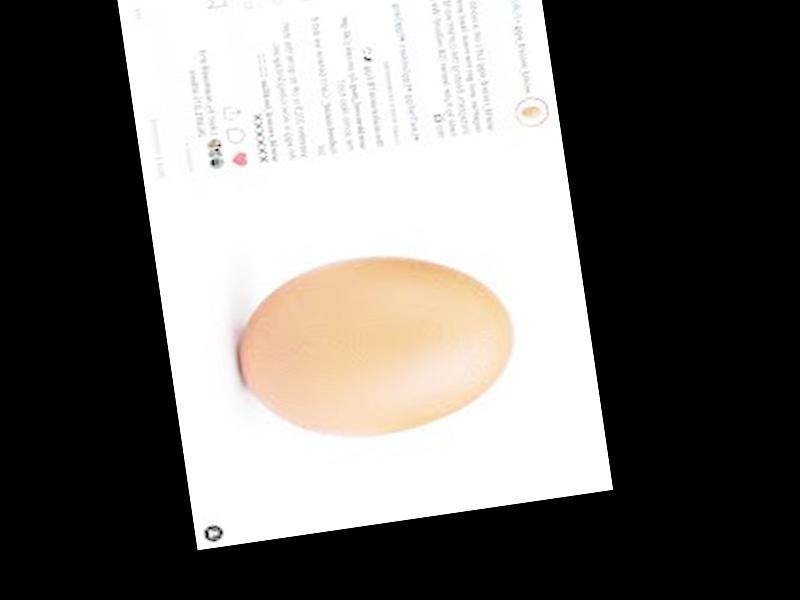Eggs: (230, 238, 523, 452)
